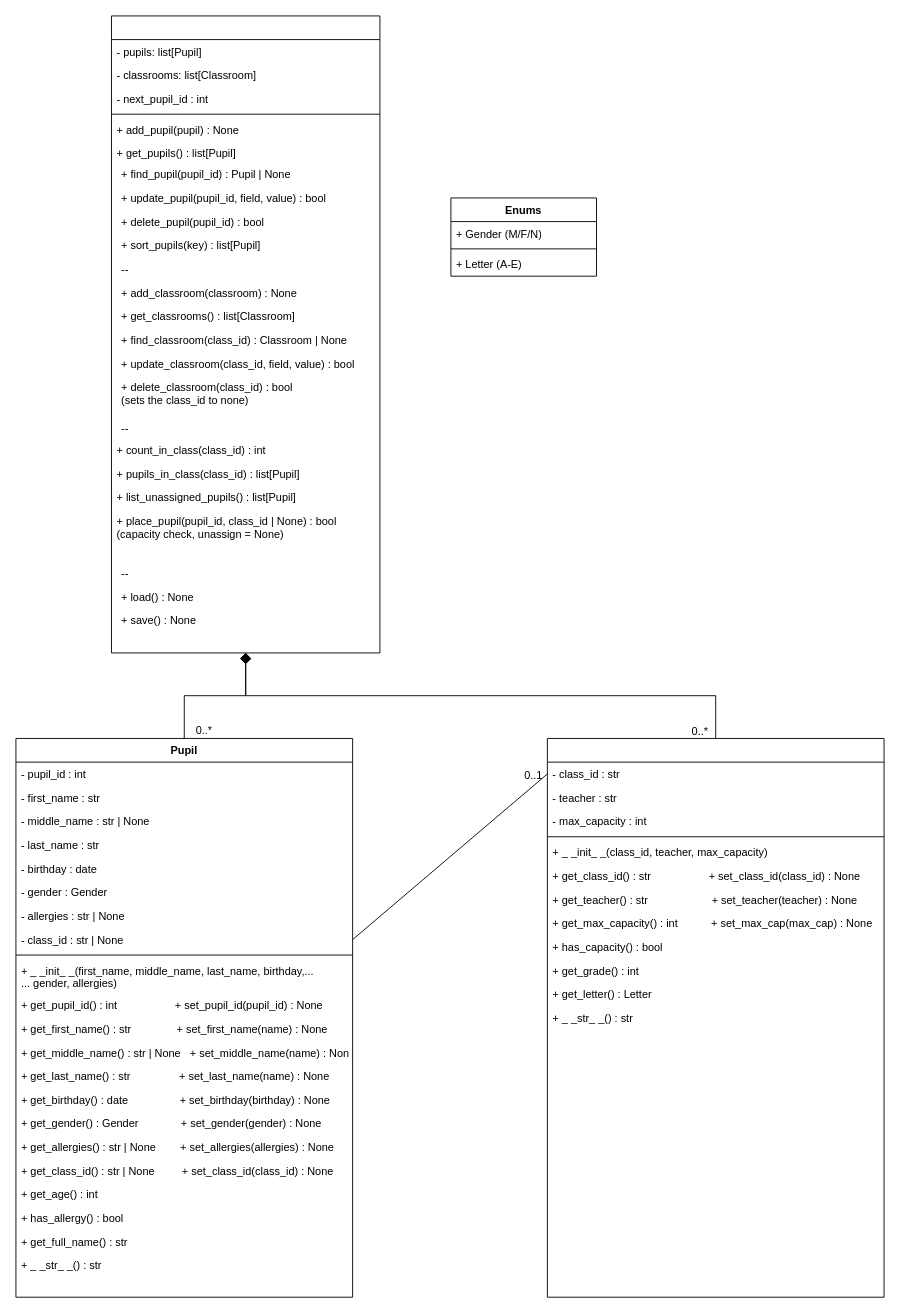
This 900x1313 diagram has some shape labels left out. Each missing label, with the box of its shape:
Classroom: (546, 738, 884, 1297)
School: (111, 15, 380, 653)
